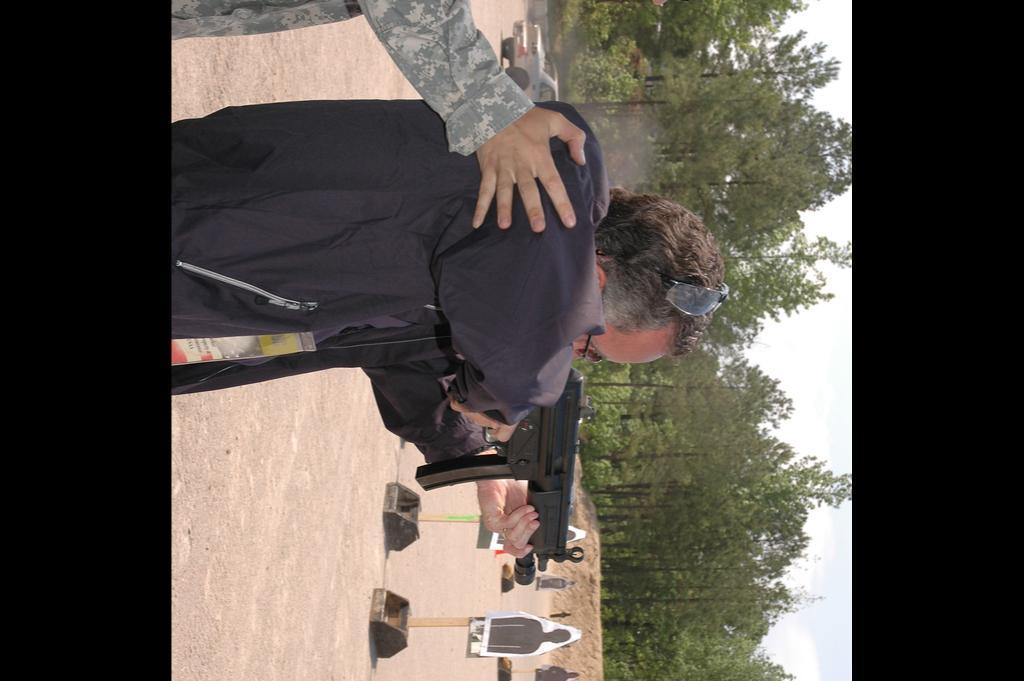gun: (415, 242, 597, 564)
